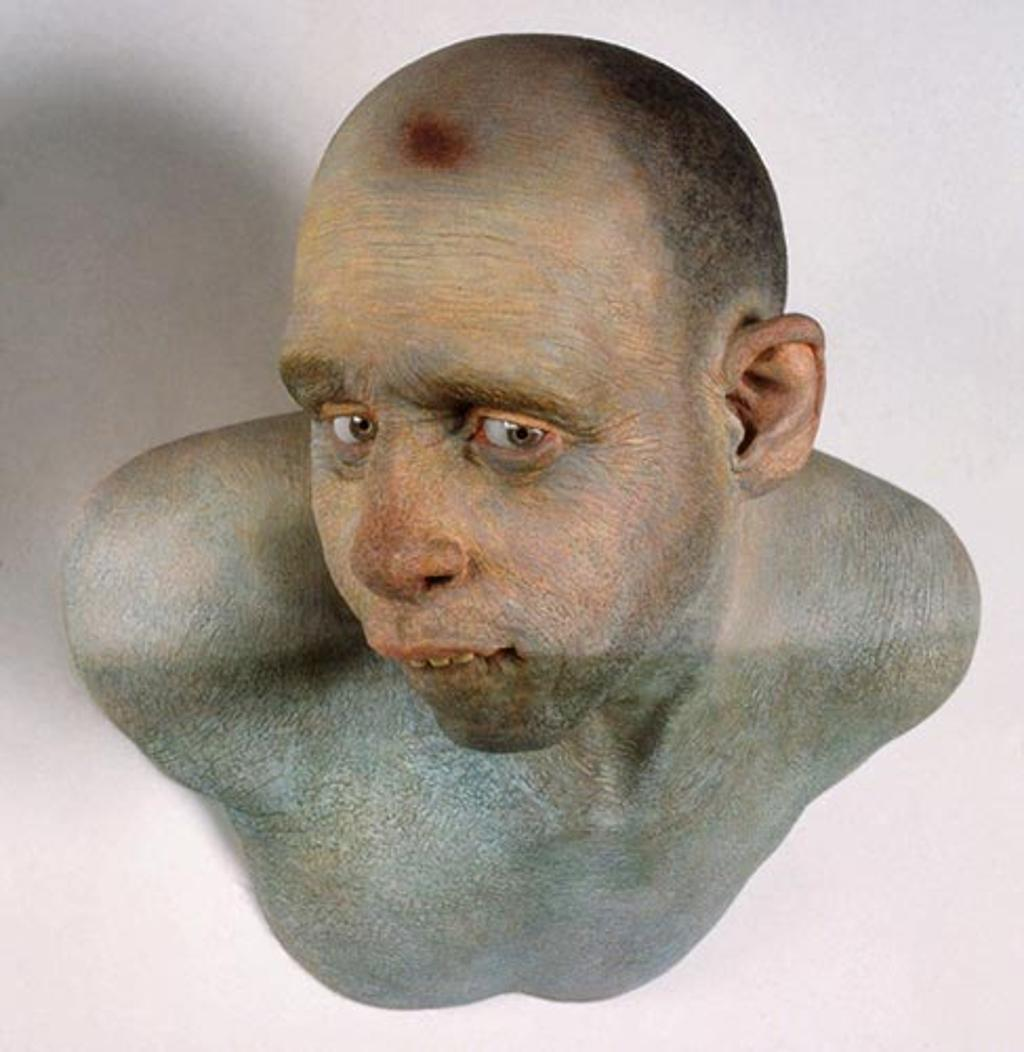face: (300, 271, 639, 745)
